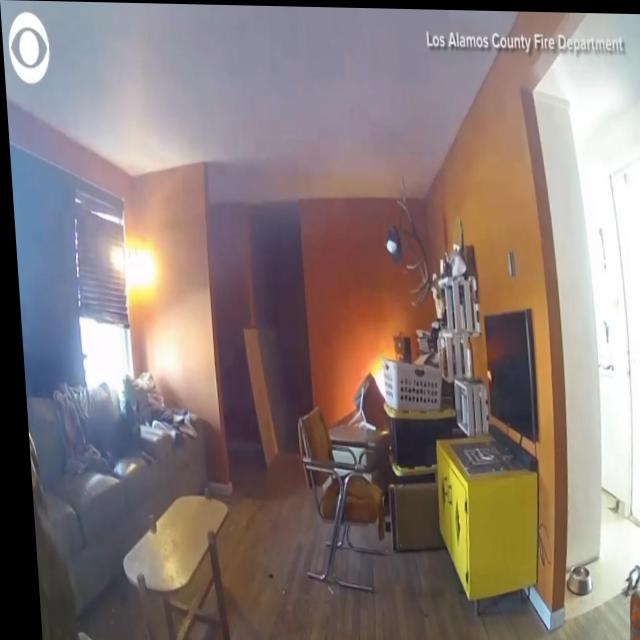fire: (363, 347, 386, 401)
